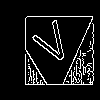V: (27, 11, 75, 68)
